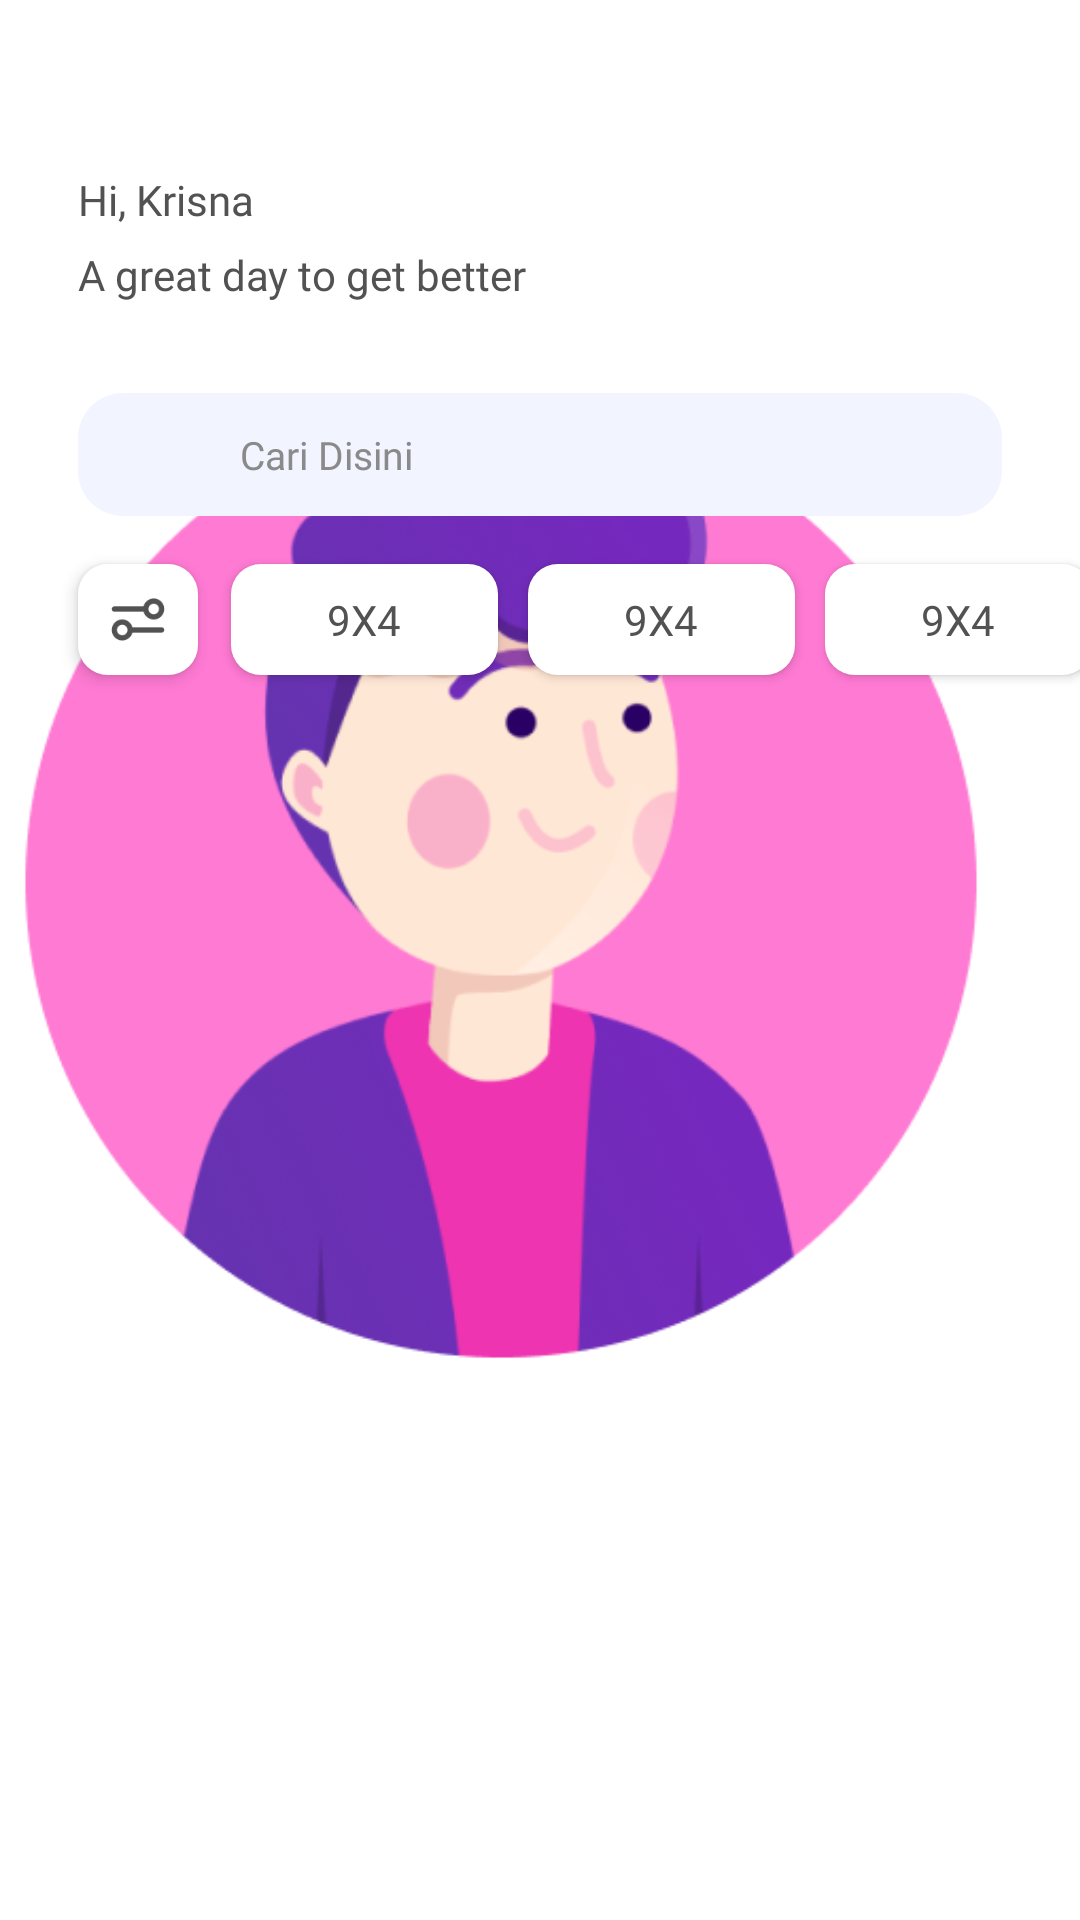

Where to tap for icons on this 1080 × 1920 app screen, as (x=x, y=y):
filter: (x=138, y=619)
